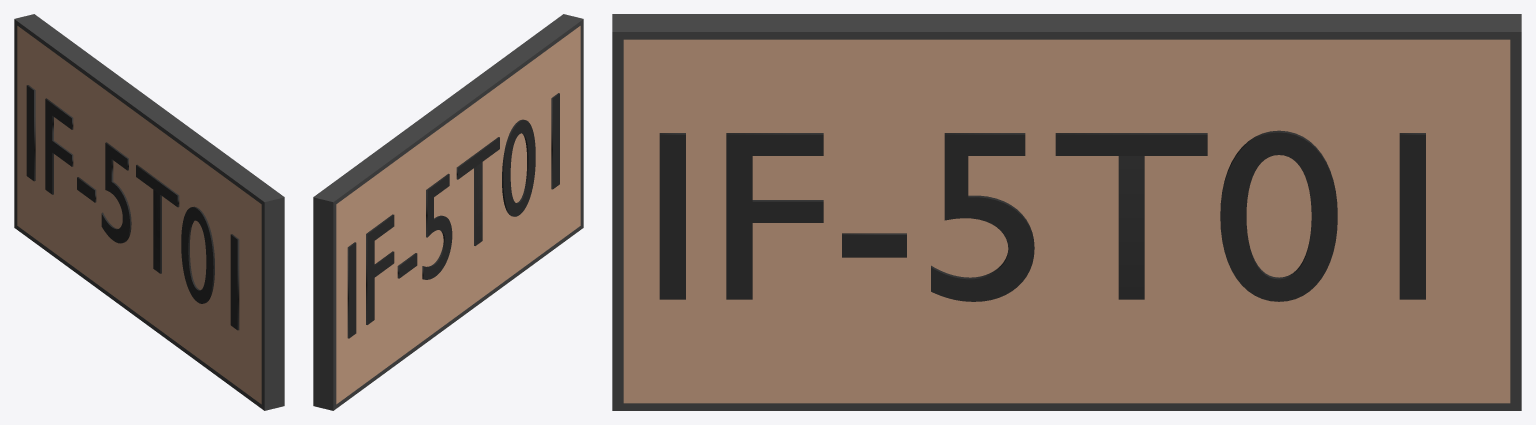
3 views of the same model, side by side, from view 1: azimuth 30°, elevation 25°; view 2: azimuth 150°, elevation 25°; view 3: azimuth 270°, elevation 25° (orthographic). The views are drawn at different scales.
Visible parts, largest first — view 1: Cube; view 2: Cube; view 3: Cube.
Part boxes in pixels (left/top/right/bottom): Cube: left=14, top=14, right=284, bottom=410; Cube: left=313, top=14, right=583, bottom=410; Cube: left=612, top=14, right=1521, bottom=410.
Bounding box in the file's own units: 12.6 × 105 × 229.
